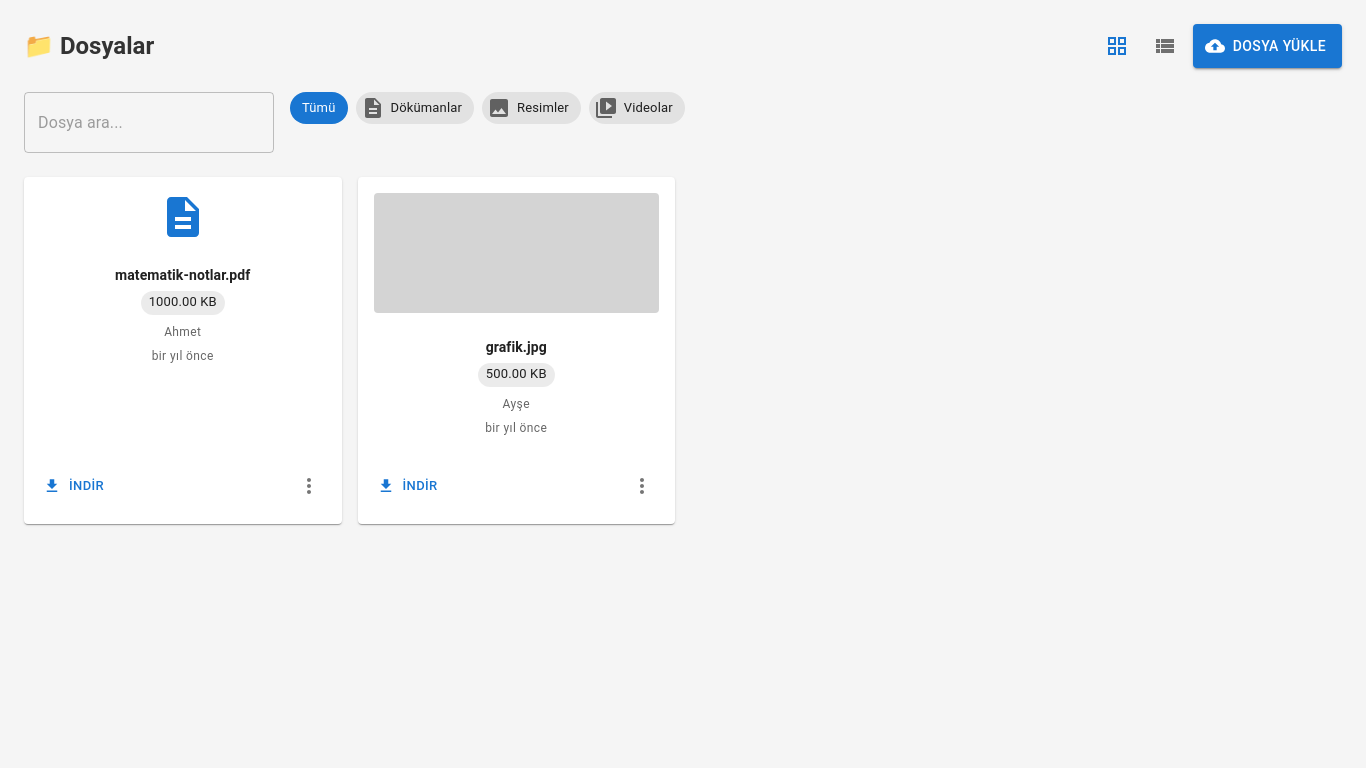
it: FileManager Component › File Information › shows file info dialog
Click the button with test id "MoreVertIcon". click: (308, 486)
box: [292,464,326,508]
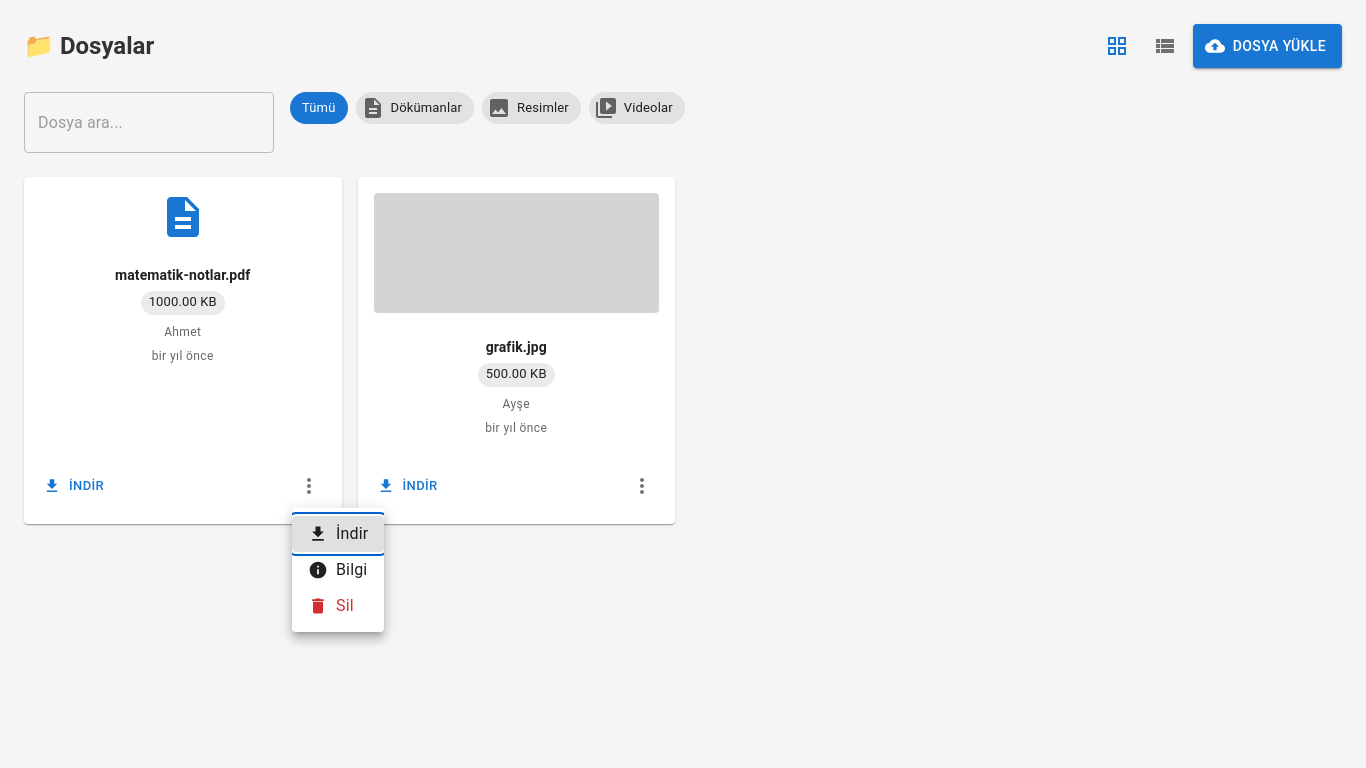
Click the menu item "Bilgi". click: (338, 570)
box: [308,560,367,580]
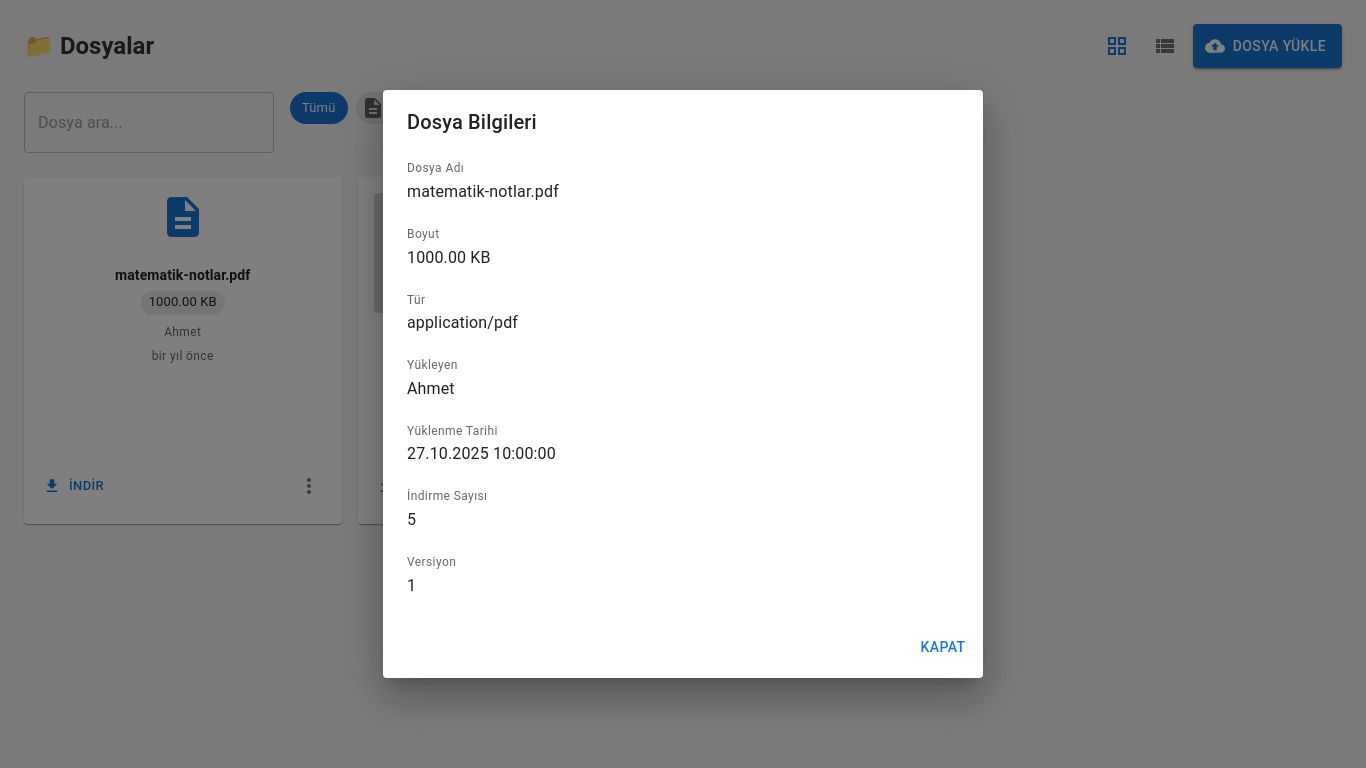
Check: the heading "Dosya Bilgileri" is shown, box [407,110,537,134]
Check: the text "matematik-notlar.pdf" is shown, box [407,182,559,201]
Check: the text "1000.00 KB" is shown, box [407,248,491,267]
